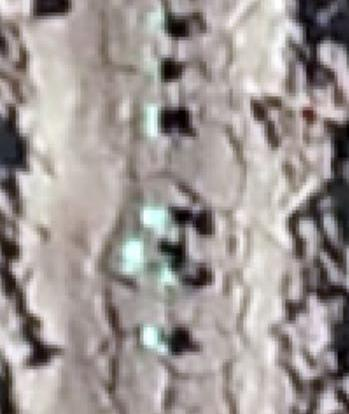cotton: (121, 243, 146, 278), (144, 207, 171, 230), (145, 7, 167, 32), (154, 261, 172, 288), (144, 107, 160, 136), (145, 326, 162, 345)
